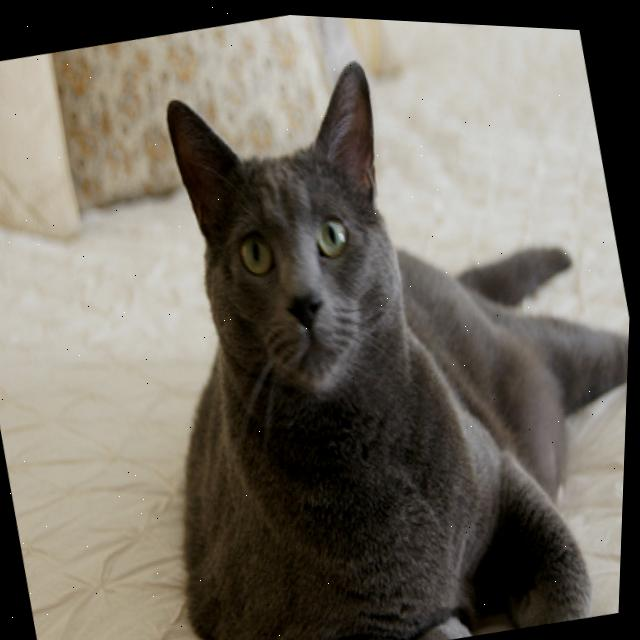Russian Blue: (75, 4, 640, 640)
